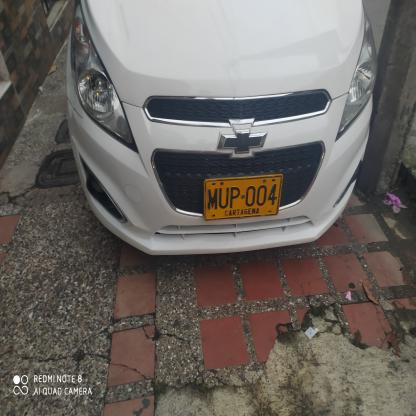placa: (201, 172, 285, 226)
